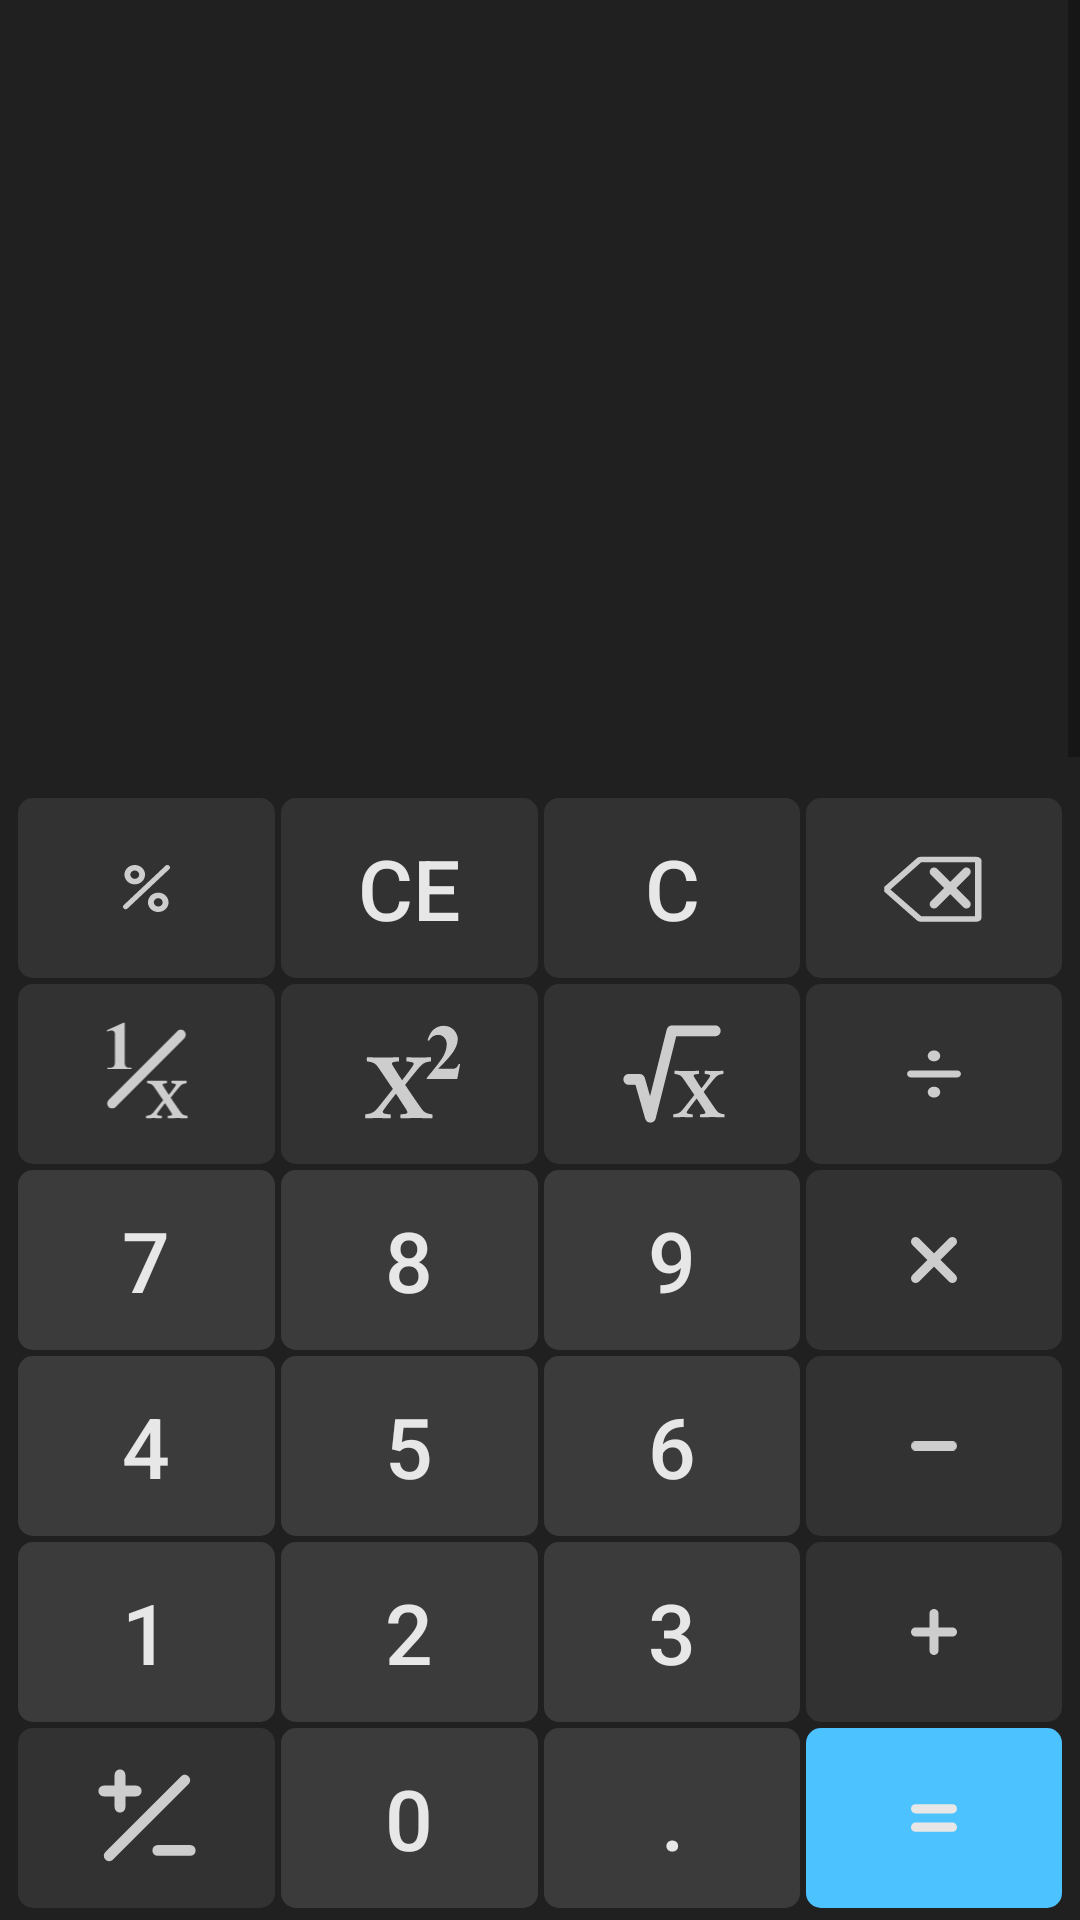

Point at icon controls on the screen. Image size 1080*1920, points as (x,y).
delete: (934,888)
divide by: (934,1074)
equals to: (934,1818)
multiply by: (934,1260)
negative: (146,1818)
one upon: (146,1074)
percentage: (146,888)
square of: (409,1074)
square root of: (672,1074)
subtract: (934,1446)
